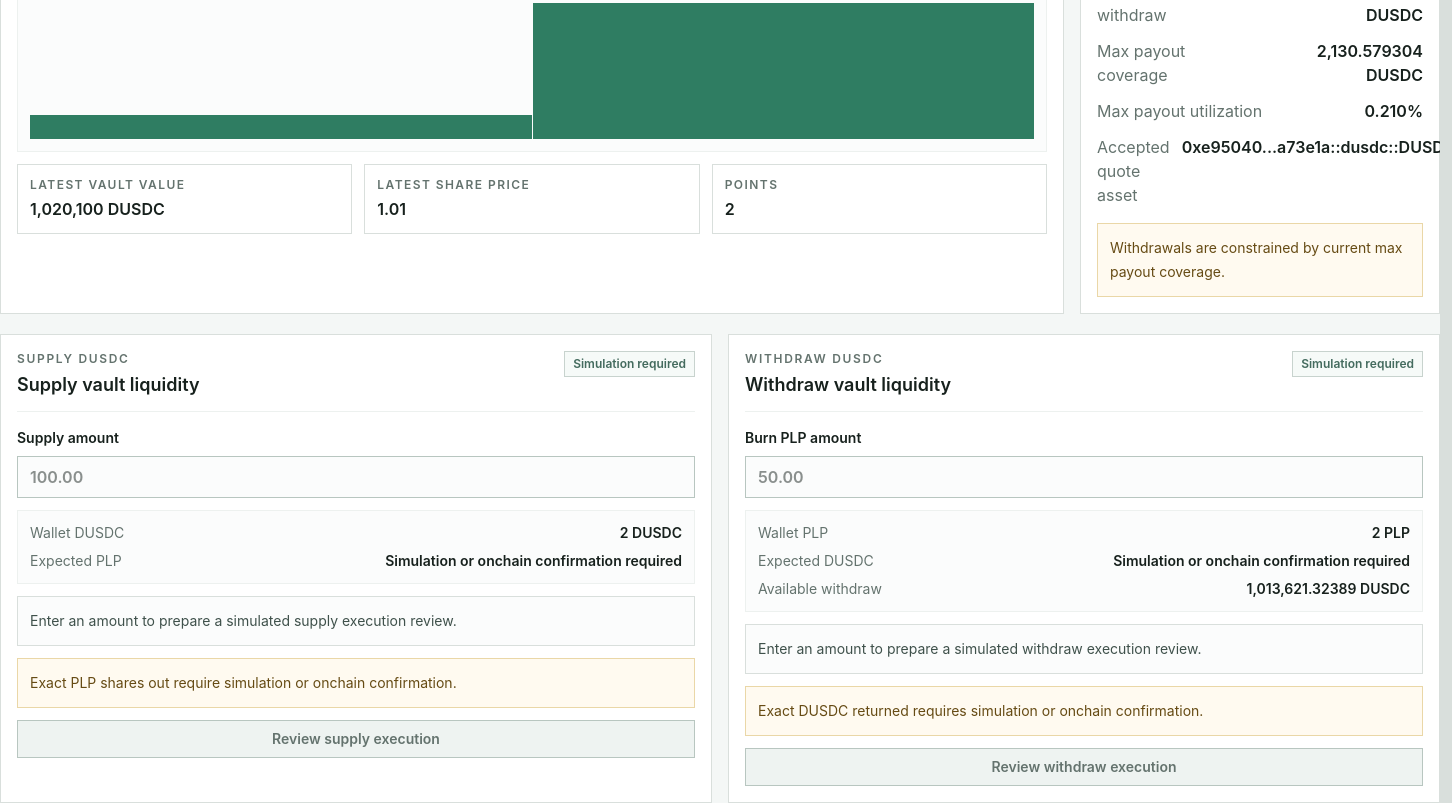
it: VaultPage › blocks LP execution review on the wrong network before building a PTB
(page scrolled)
Step 1. Type "1.5" into the field labelled "Supply amount" → coordinates (356, 477), box [17, 456, 695, 498]
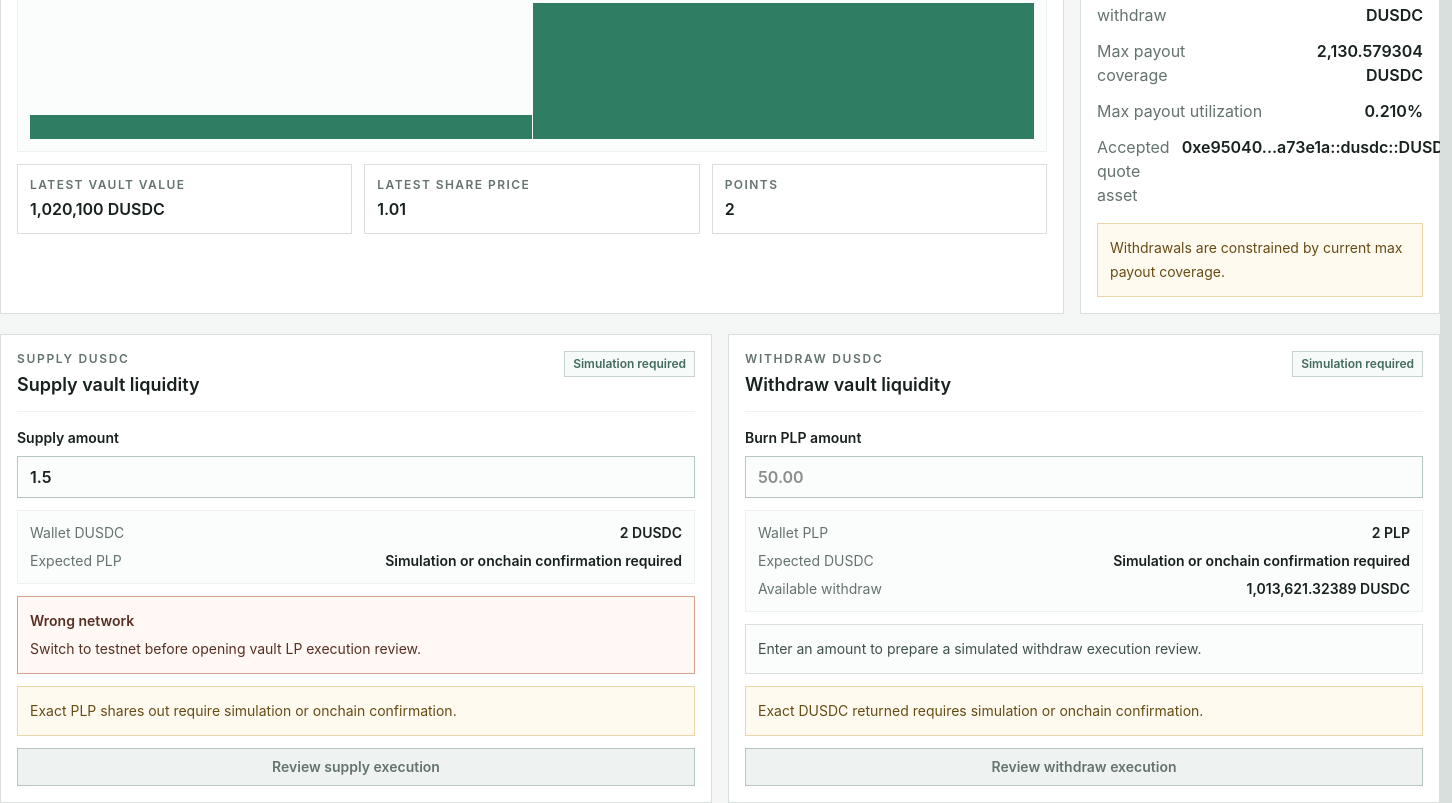
Check: the message "Wrong network Switch to testnet before opening vault LP execution review." is shown, box [17, 596, 695, 674]
Check: the text "Switch to testnet before opening vault LP execution review." is shown, box [30, 640, 421, 657]
